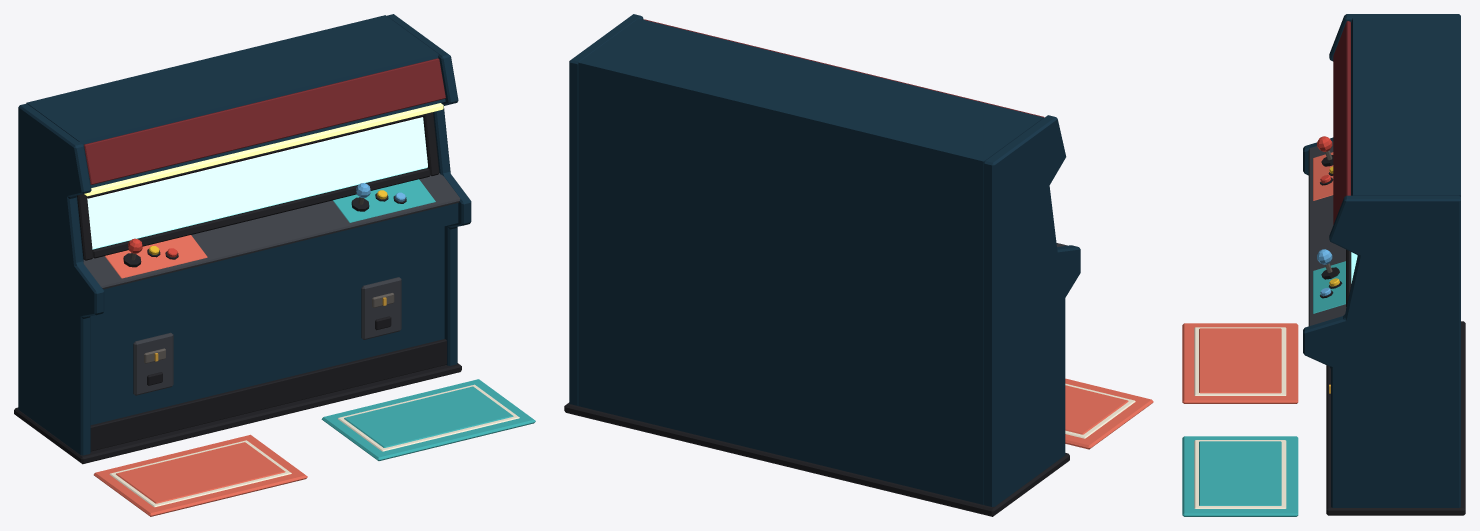
Rendered from arcade_cabinet_duo.glb.
3 renders of one model, left to right at view 1: azimuth 30°, elevation 25°; view 2: azimuth 150°, elevation 25°; view 3: azimuth 270°, elevation 25°, orthographic. The views are drawn at different scales.
Visible parts, largest first — view 1: arcade_cabinet_duo; view 2: arcade_cabinet_duo; view 3: arcade_cabinet_duo.
Boxes of the visible parts, left/top/right/bottom form: arcade_cabinet_duo: left=14, top=14, right=535, bottom=516; arcade_cabinet_duo: left=564, top=14, right=1153, bottom=516; arcade_cabinet_duo: left=1182, top=14, right=1465, bottom=516.
Bounding box in the file's own units: 1.95 × 1.5 × 1.22.
